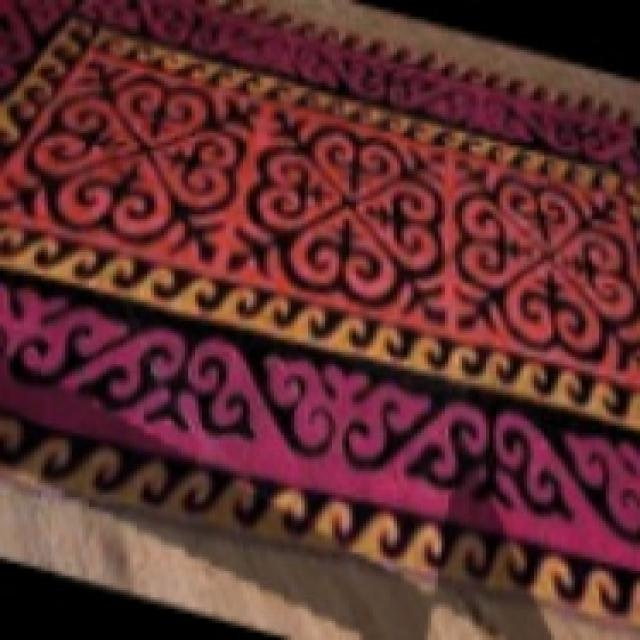Unity: (0, 60, 265, 275), (220, 109, 450, 331), (457, 155, 637, 389)
